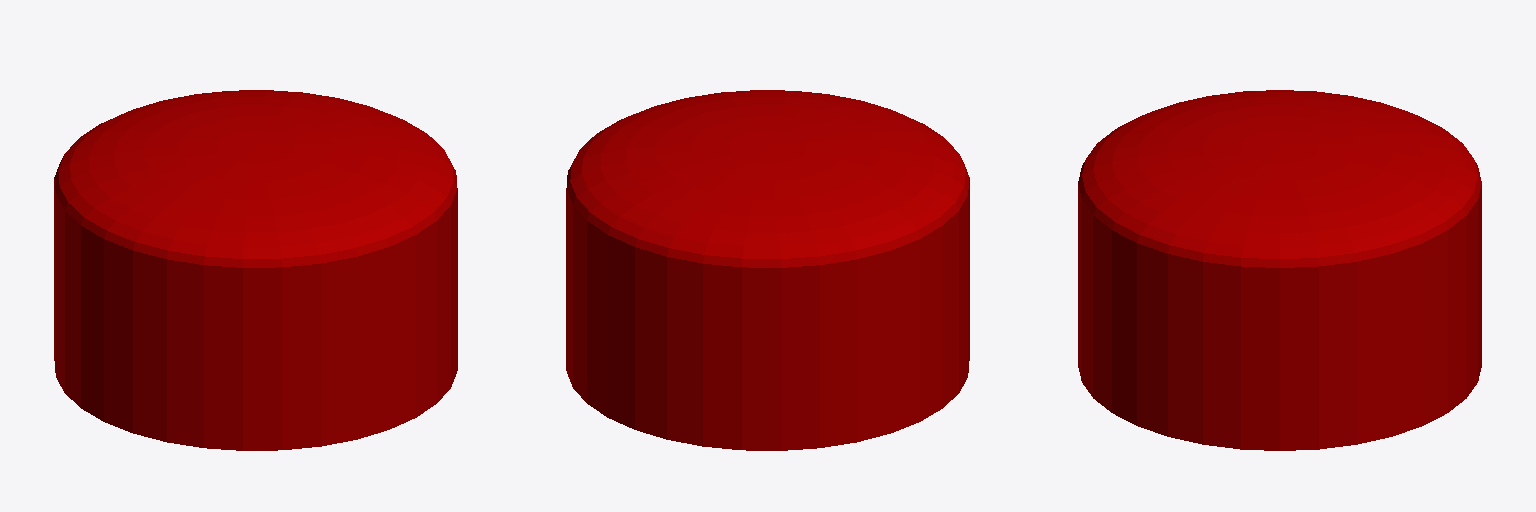
File: LaunchButton.obj
The picture shows the model from 3 angles: view 1: azimuth 30°, elevation 25°; view 2: azimuth 150°, elevation 25°; view 3: azimuth 270°, elevation 25°; orthographic projection.
Parts seen in each view (by area): view 1: Cylinder, Sphere; view 2: Cylinder, Sphere; view 3: Cylinder, Sphere.
Boxes of the visible parts, x1=… form: Cylinder: x1=54, y1=178, x2=457, y2=450; Sphere: x1=54, y1=90, x2=456, y2=267; Cylinder: x1=566, y1=178, x2=969, y2=450; Sphere: x1=567, y1=90, x2=969, y2=267; Cylinder: x1=1078, y1=185, x2=1481, y2=450; Sphere: x1=1078, y1=90, x2=1481, y2=267.
Size of the model in its own units: 2 by 1.2 by 2.